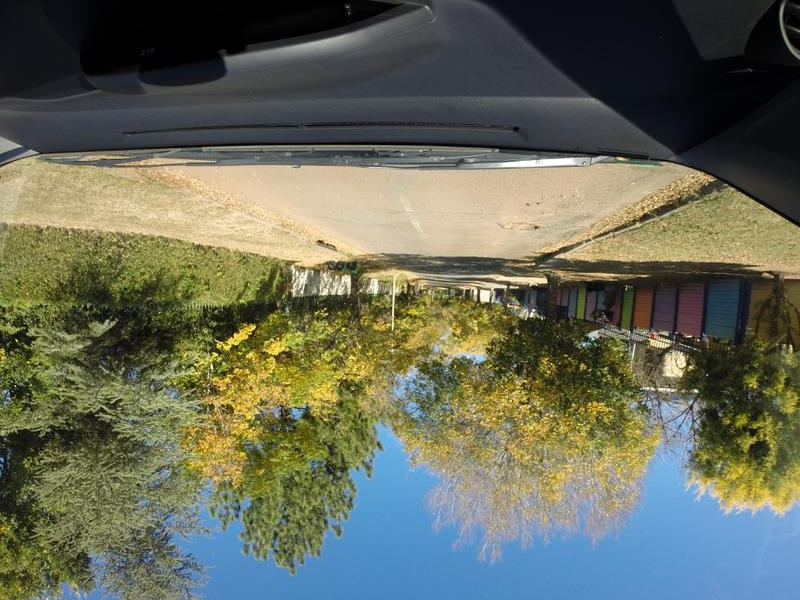pothole: (488, 217, 546, 240)
